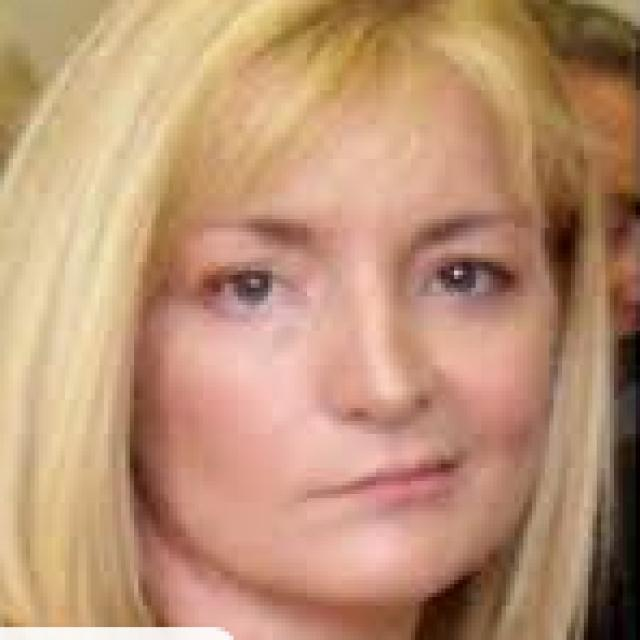stroke_face: (131, 18, 543, 603)
